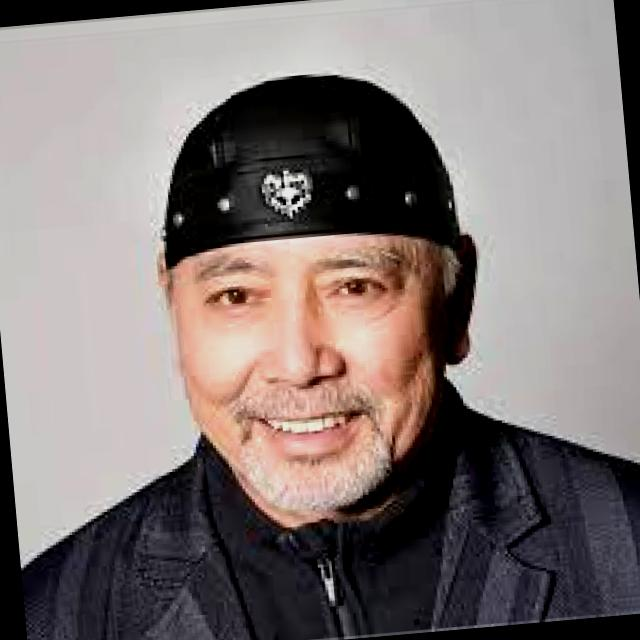hat: (163, 75, 460, 267)
